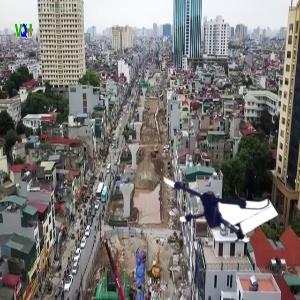drone: (161, 153, 265, 257)
